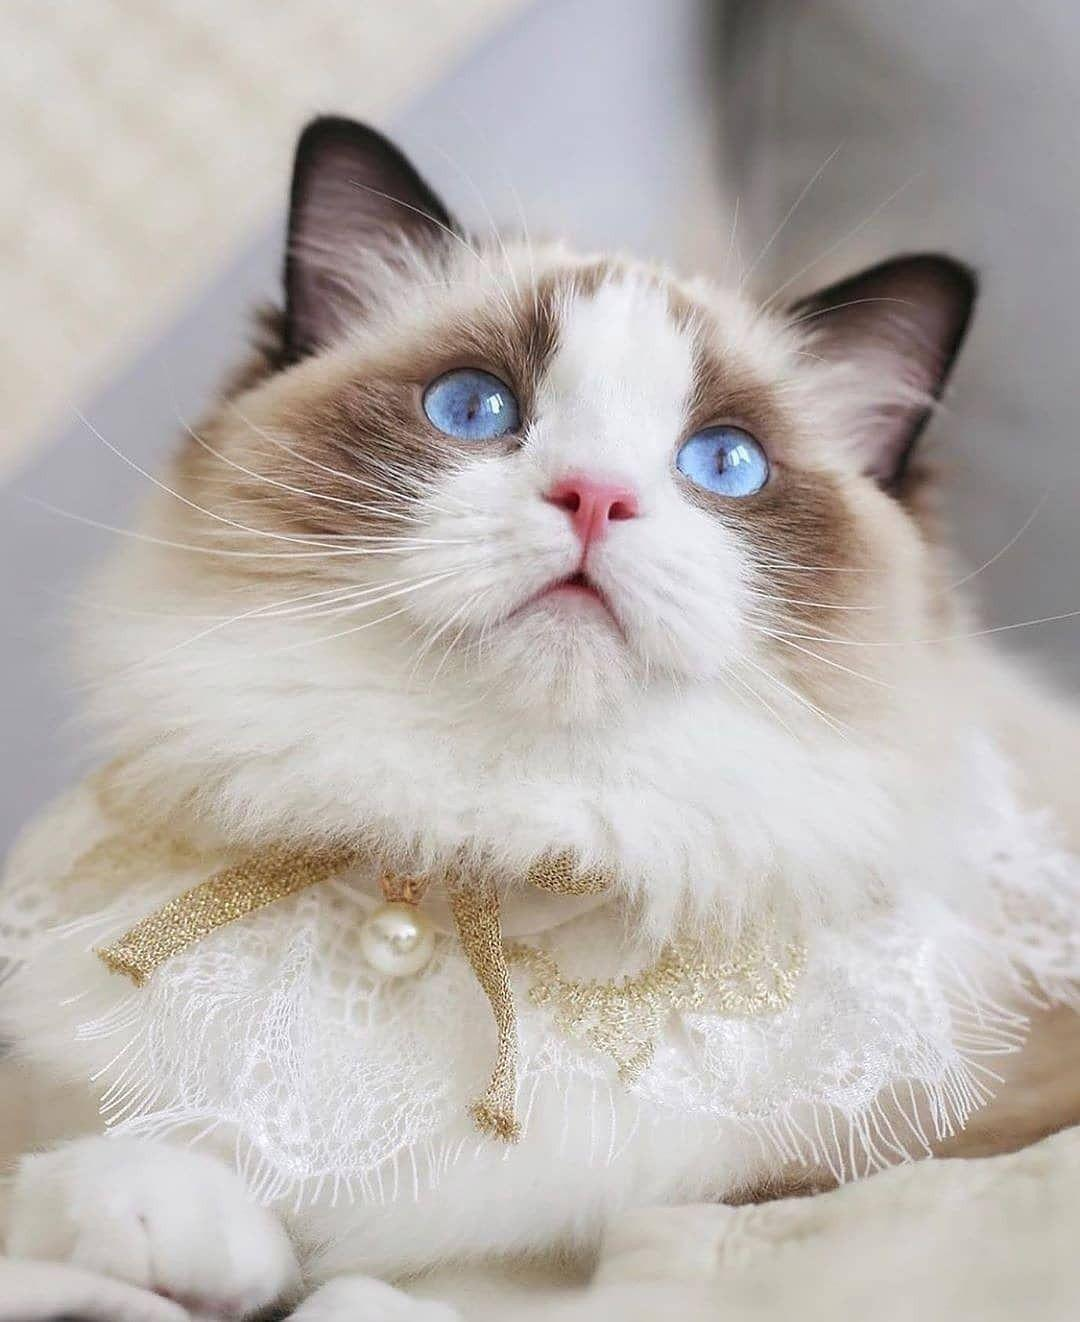ragdoll: (227, 89, 999, 785)
